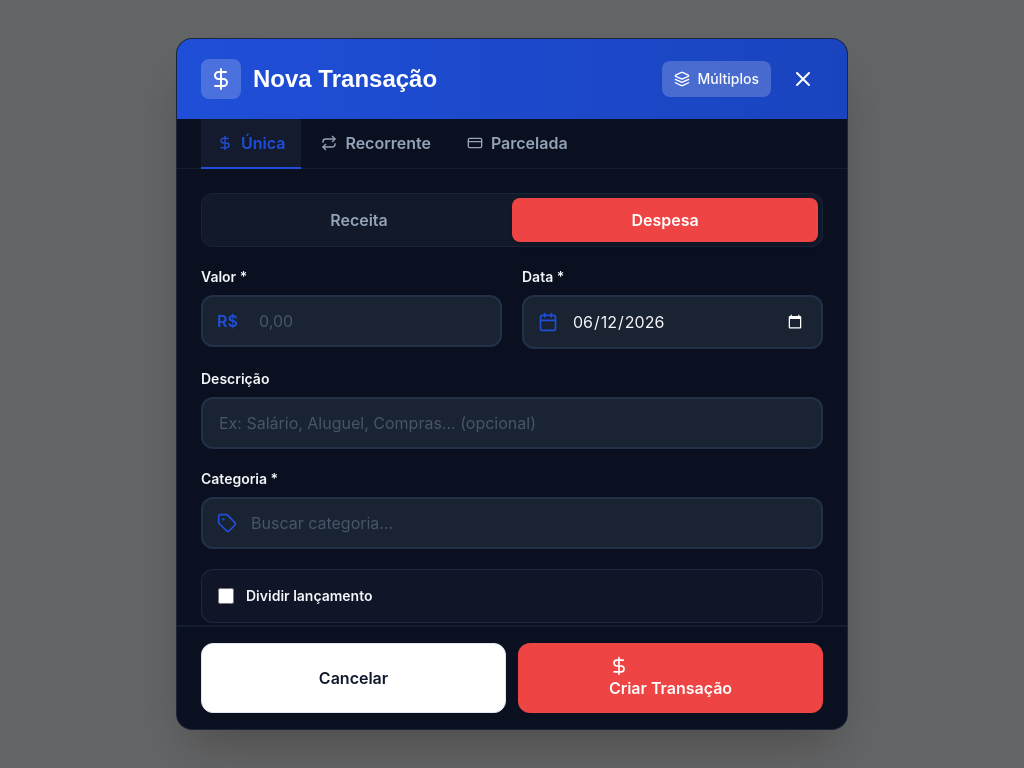
UnifiedTransactionModal category splits › troca de aba ajusta status quando ele nao esta bloqueado
Click the button "Recorrente".
click(376, 144)  # box [305, 119, 447, 169]
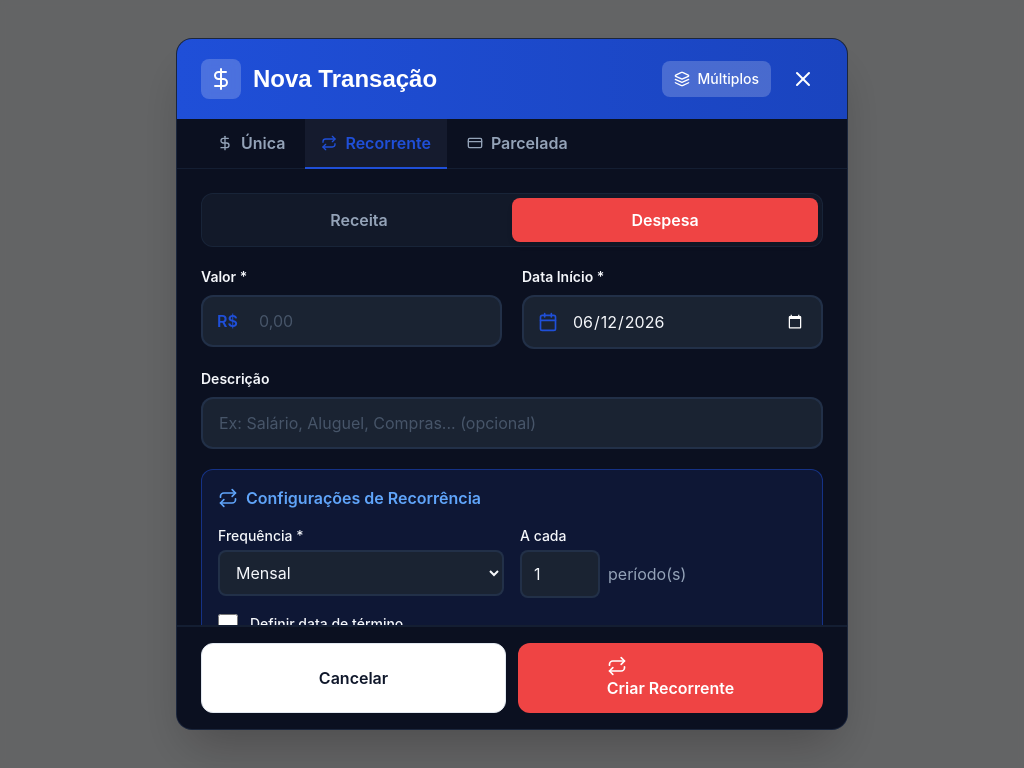
Expected: the field labelled "Pago" is not shown
Click the button "Única".
click(251, 144)  # box [201, 119, 301, 169]
(page scrolled)
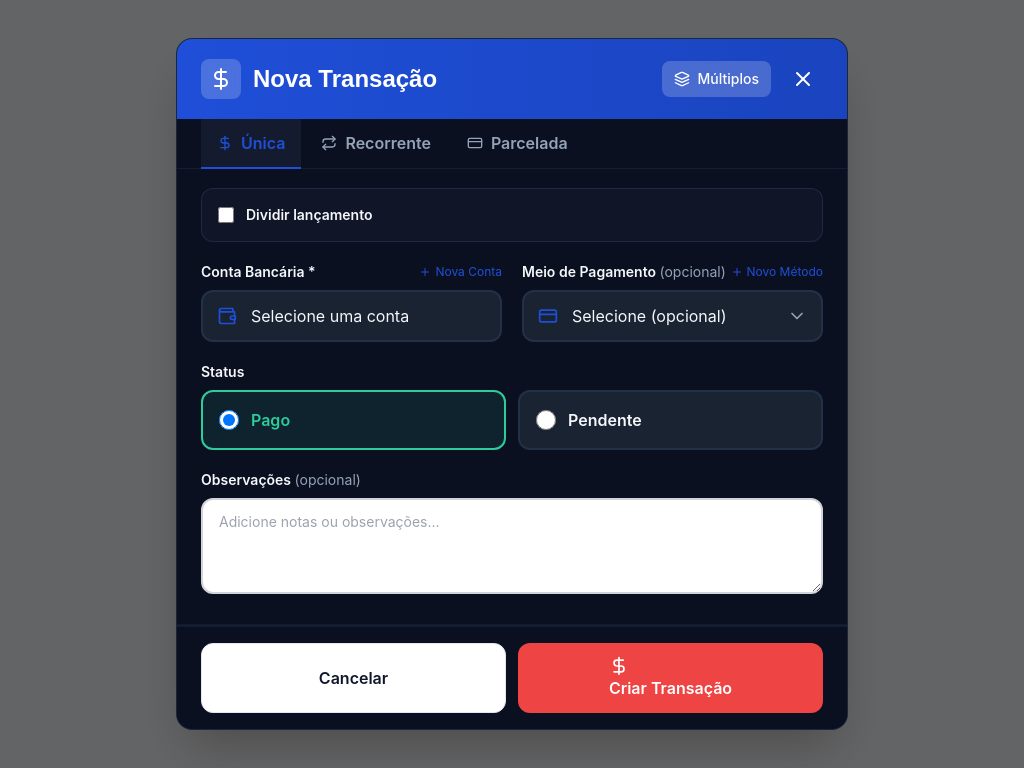
Expected: the radio button labelled "Pago" is checked, [219, 410, 239, 430]
